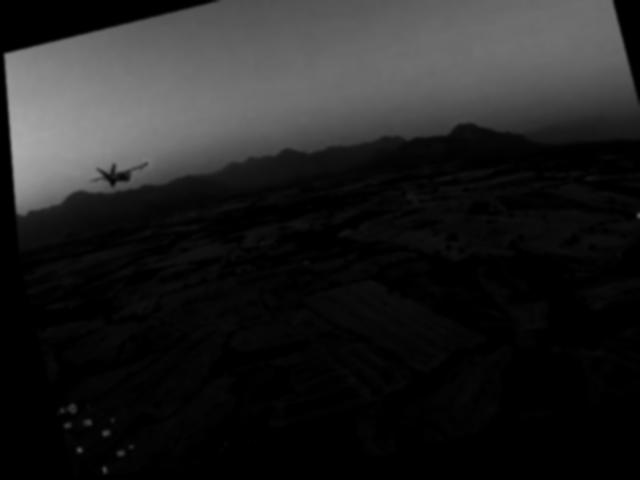hedef: (79, 154, 153, 205)
